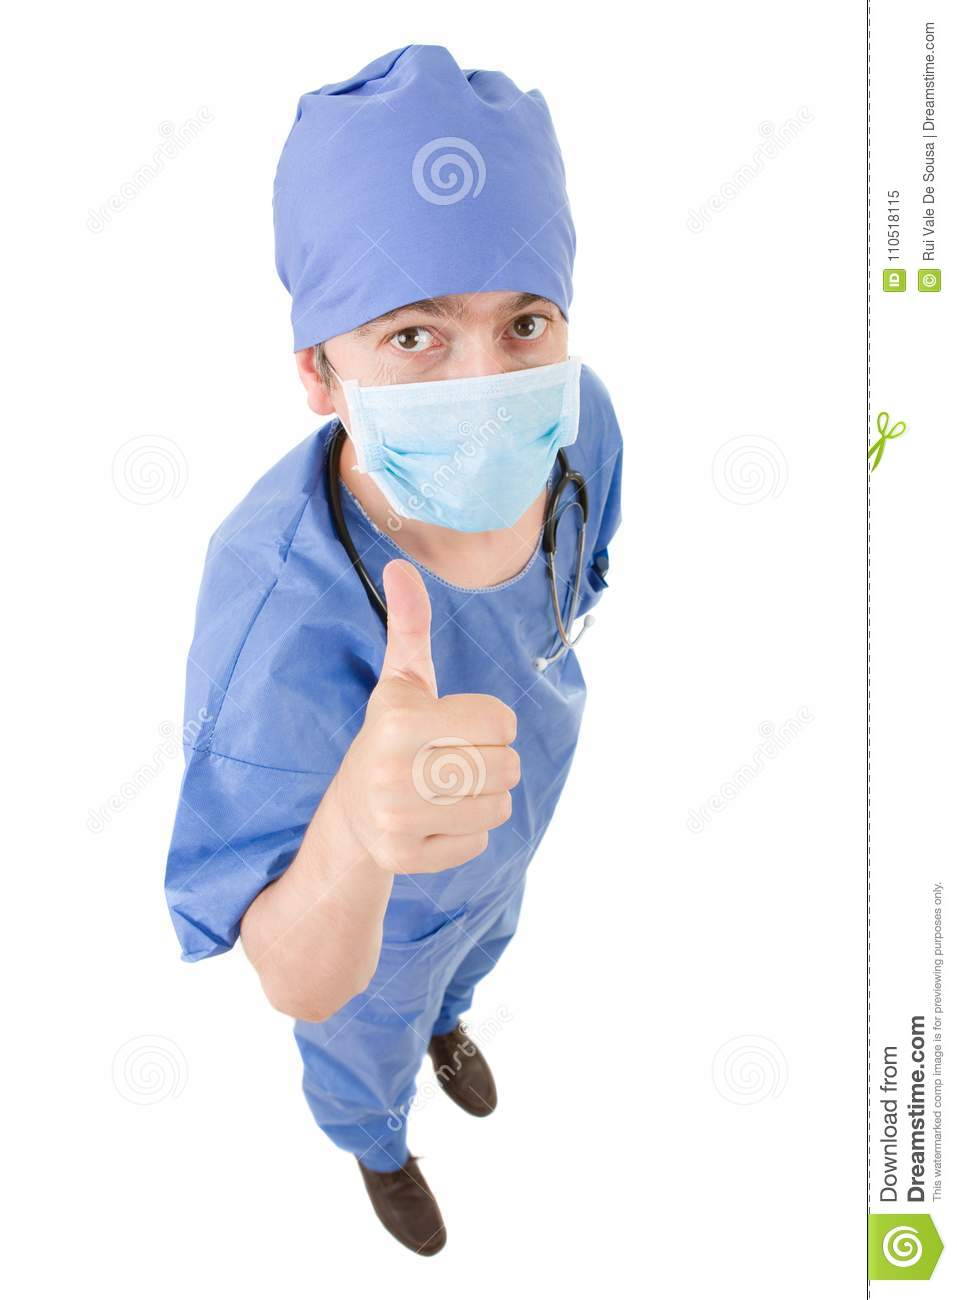mask: (322, 353, 606, 535)
